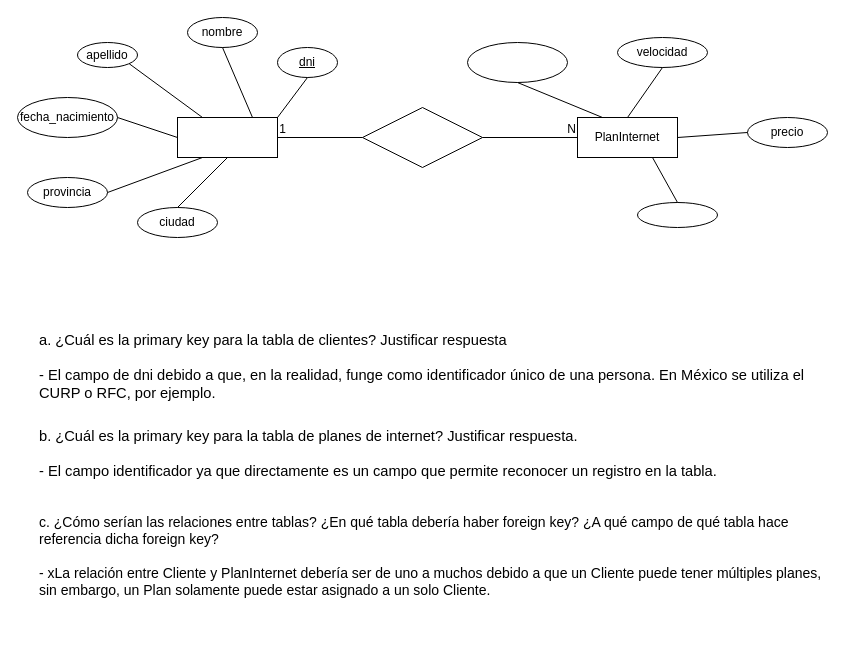
Image size: 845x650. Some labels were removed from this diagram. Here are the shapes that lost their labels. From the top down, the centre of each, then its label:
At pixel 517 62: "identificador".
At pixel 227 137: "Cliente".
At pixel 422 137: "contrata".
At pixel 677 215: "descuento".
